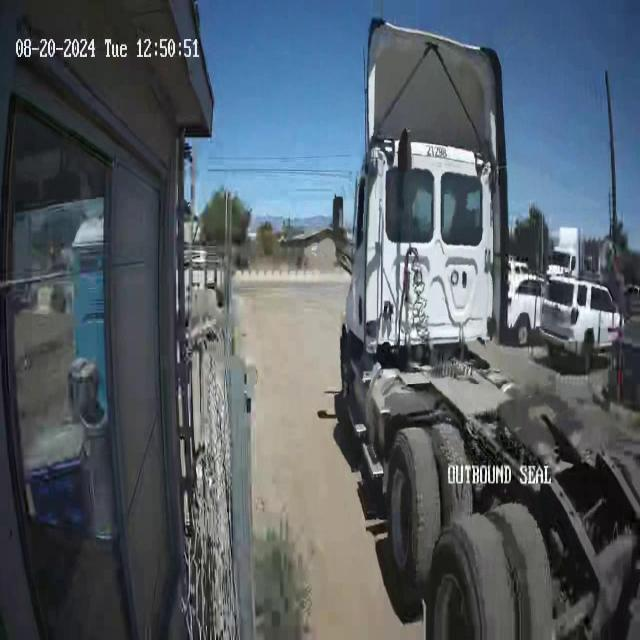BOBTAIL: (334, 17, 638, 637)
